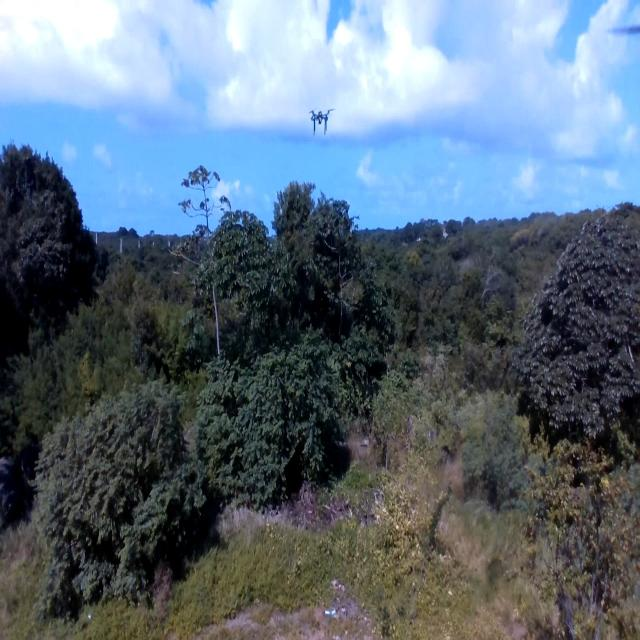-uav-: (306, 95, 335, 148)
